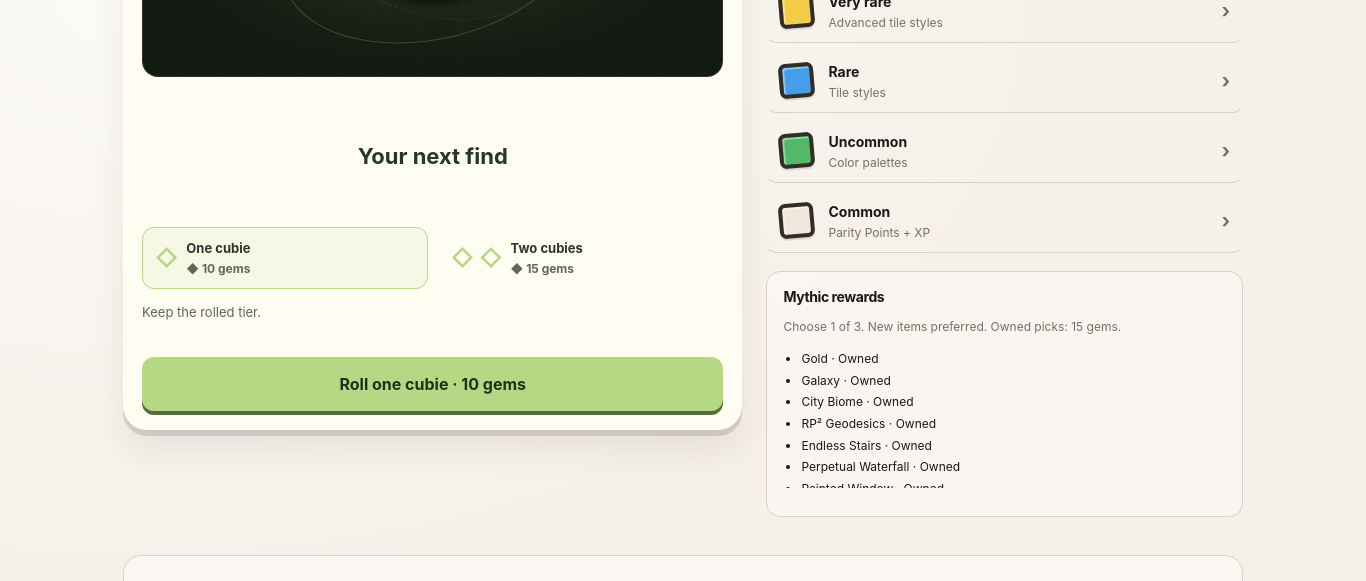
Test: shows three choices after tier 1 lands even when everything is owned
The image size is (1366, 581).
(page scrolled)
Click the button "Roll one cubie · 10 gems" at (433, 384), box [142,357,724,411]
Wait 2400 ms
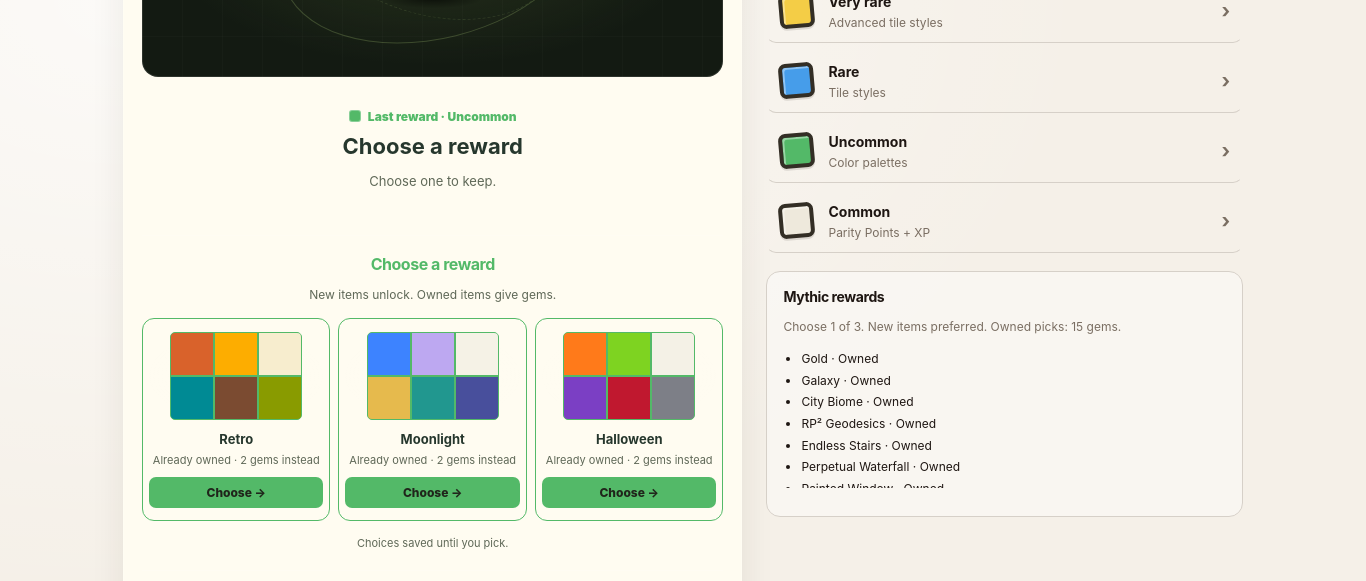
Click the button with class "chest-choice-card" that starts with "Moonlight" at (433, 420), box [338,318,527,521]
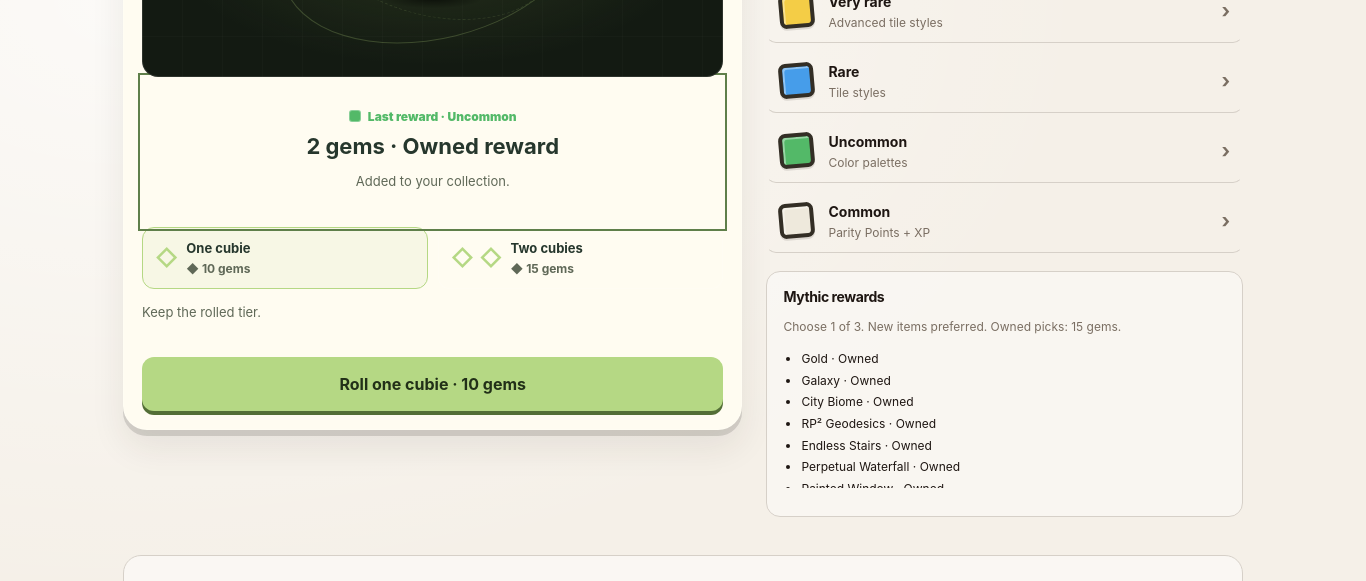
Expected: the element with class "chest-choices" is gone
